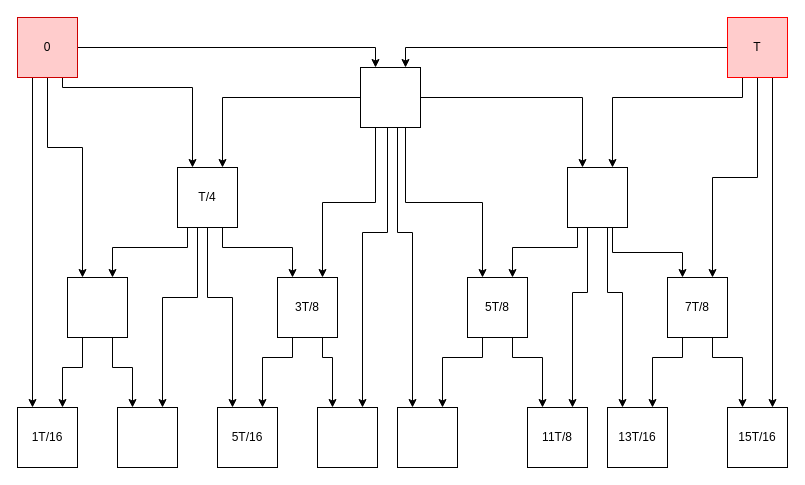
Image size: 805x485. Some labels were removed from this diagram. Here are the shapes that lost their labels. From the top down, the box of each, then its label:
(360, 66, 420, 128): T/2
(566, 166, 628, 228): 3T/4
(66, 276, 128, 338): T/8
(116, 406, 178, 468): 3T/16
(316, 406, 378, 468): 7T/16
(396, 406, 458, 468): 9T/16
